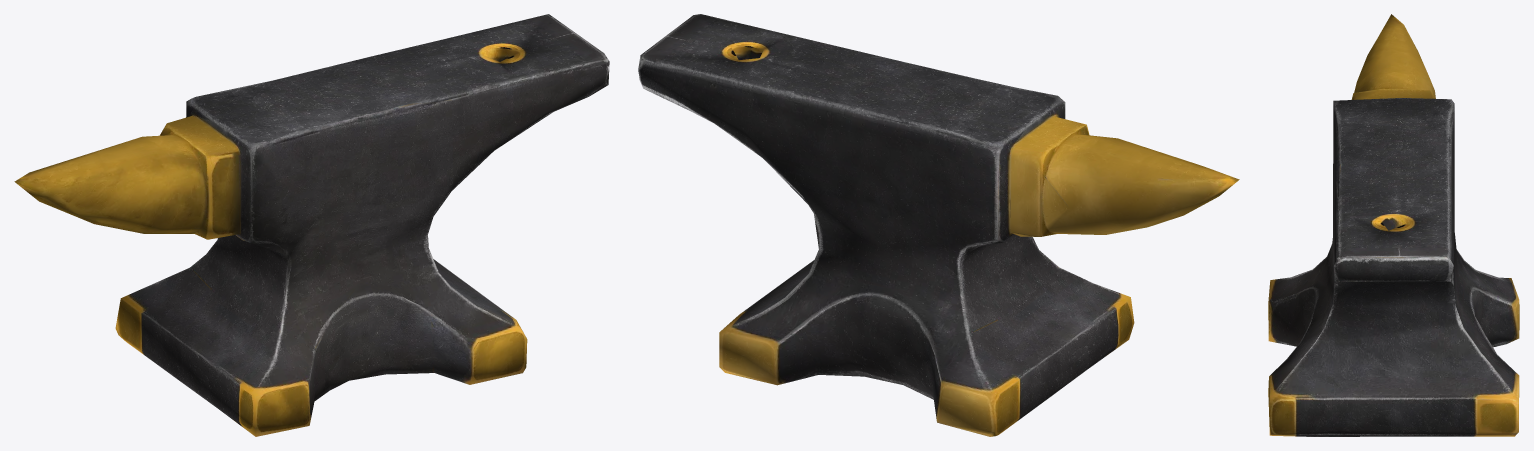
Rendered from anvil.glb.
3 renders of one model, left to right at view 1: azimuth 30°, elevation 25°; view 2: azimuth 150°, elevation 25°; view 3: azimuth 270°, elevation 25°, orthographic. The views are drawn at different scales.
Parts seen in each view (by area): view 1: Mesh1.0; view 2: Mesh1.0; view 3: Mesh1.0.
Part boxes in pixels (x1,y1,x2,y2): Mesh1.0: (14, 14, 609, 436); Mesh1.0: (638, 14, 1239, 436); Mesh1.0: (1268, 14, 1519, 436).
Size of the model in its own units: 1.92 by 0.8393 by 0.8148.
Materials: 1 (1 with a texture image).
